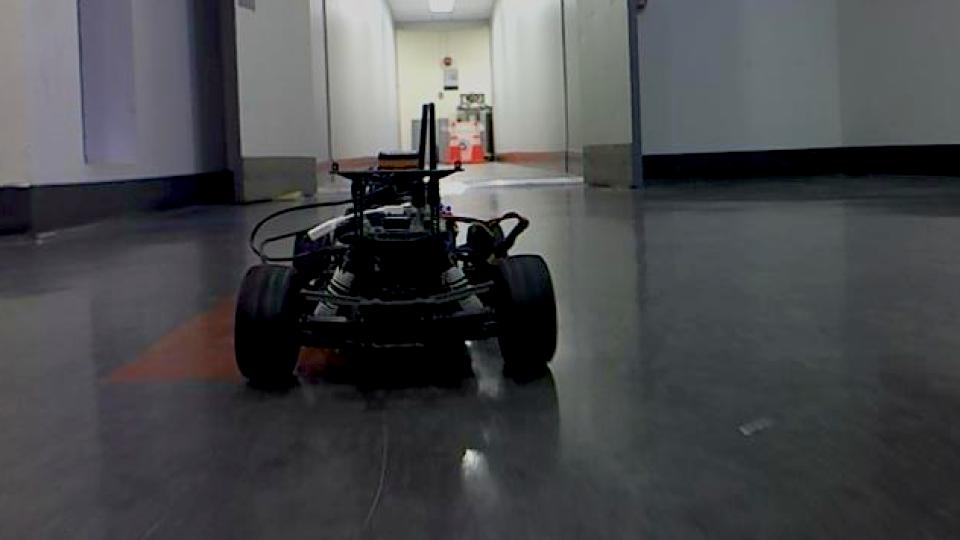car: (229, 101, 560, 386)
